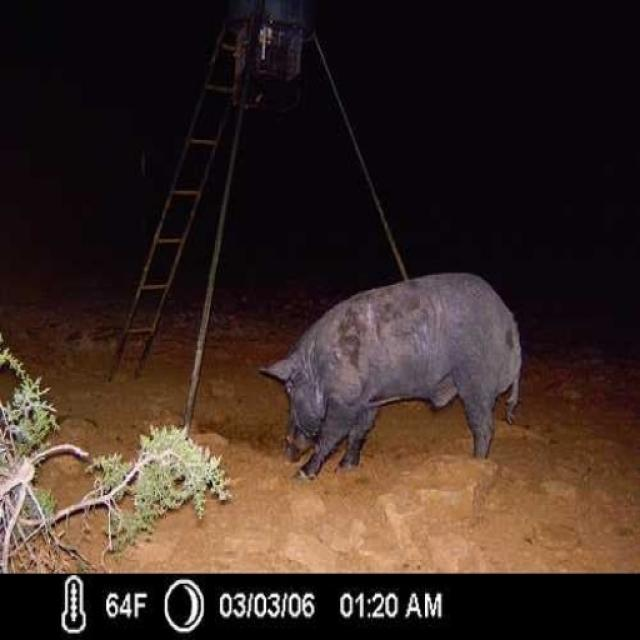pig: (267, 246, 575, 486)
